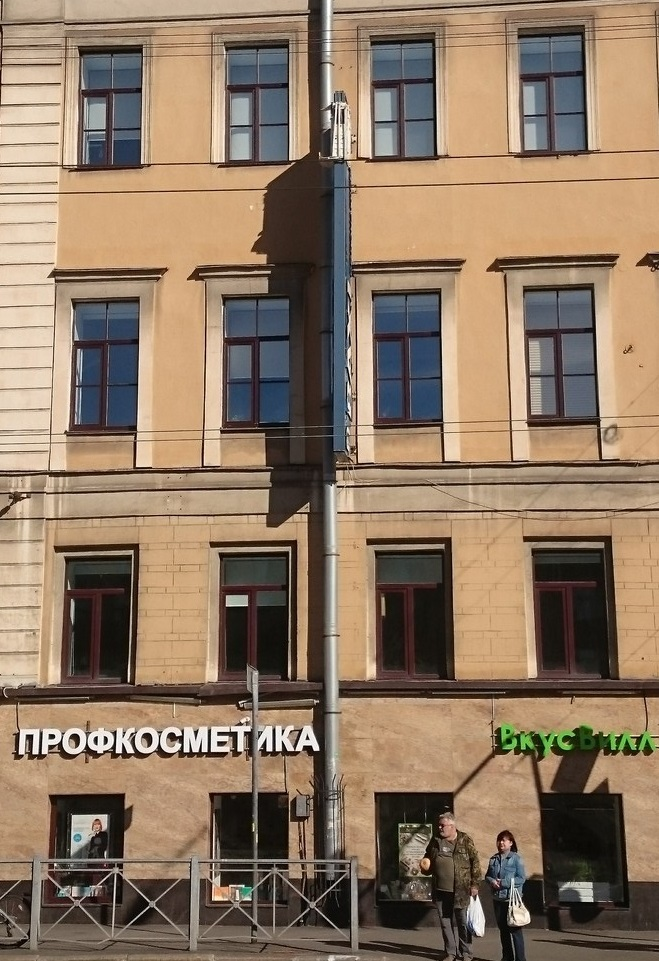cantilever: (332, 95, 359, 460)
signboard: (16, 725, 317, 760), (499, 723, 655, 755)
window: (371, 542, 450, 683), (530, 552, 612, 680), (371, 291, 445, 429), (218, 546, 291, 682), (527, 282, 594, 425), (541, 794, 628, 904), (224, 296, 293, 432), (68, 301, 136, 431), (64, 554, 133, 682), (211, 790, 289, 902), (519, 35, 587, 154), (372, 36, 436, 160), (76, 48, 142, 168), (226, 46, 292, 166), (50, 795, 120, 897)
